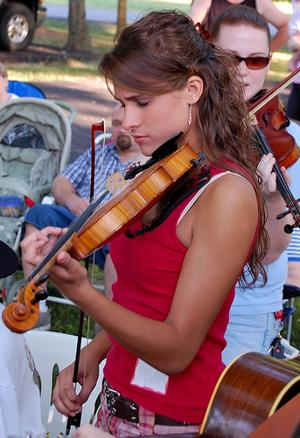person: (18, 11, 264, 436)
